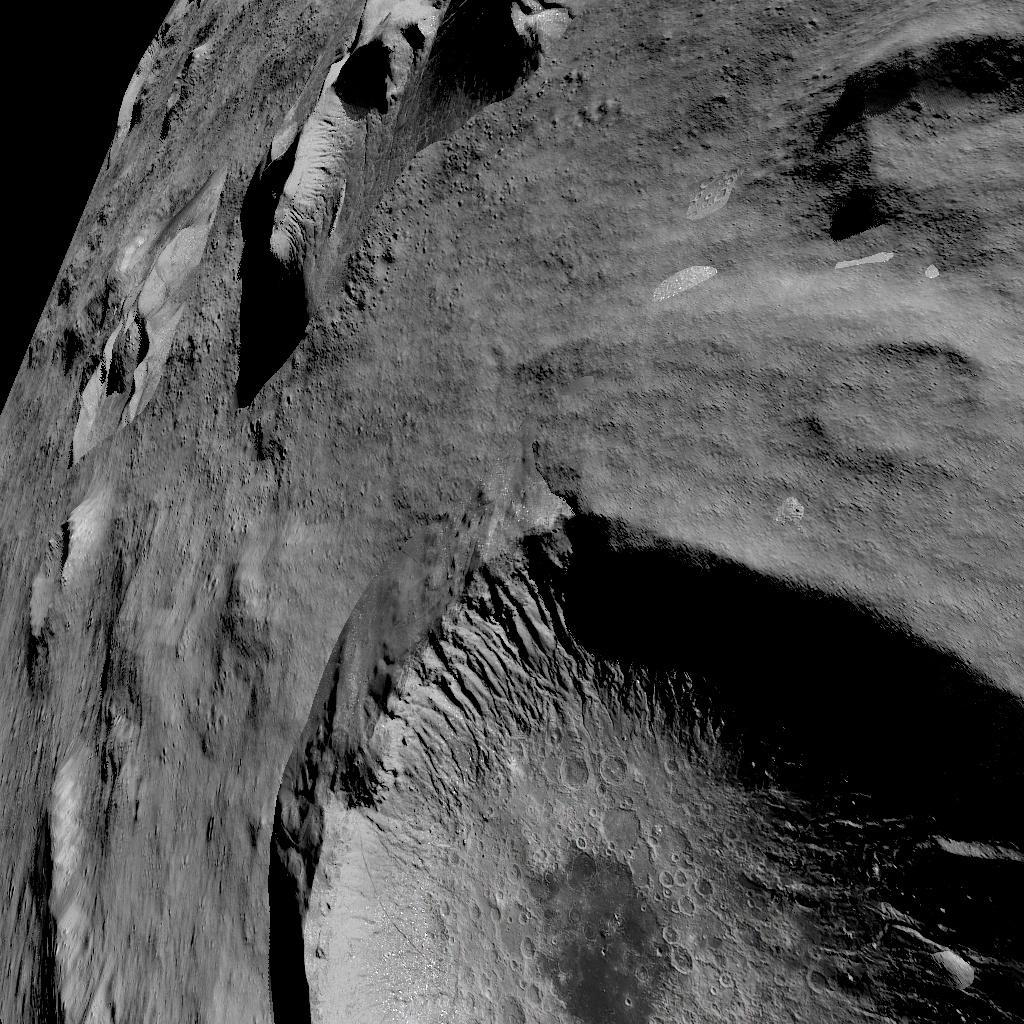Boulders: (217, 0, 578, 402), (40, 144, 212, 450)
Crater: (239, 512, 1024, 1024), (785, 26, 1024, 272), (821, 336, 991, 480)
Plan surface: (593, 5, 778, 505)
